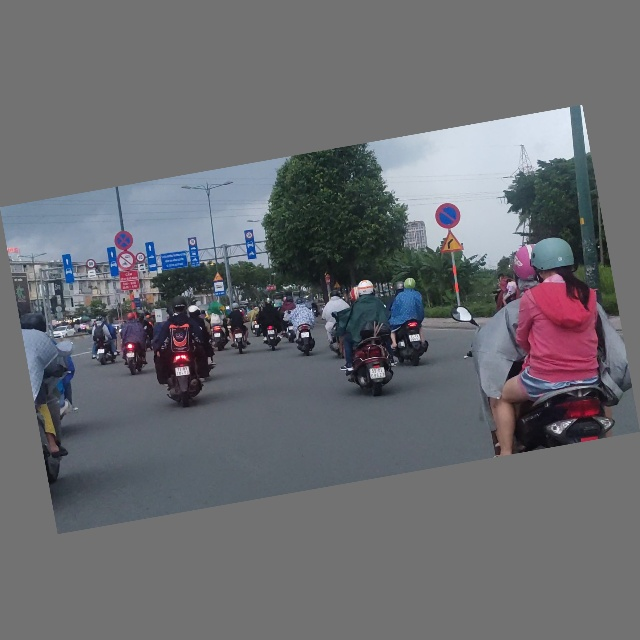I.434a: (213, 281, 227, 298)
P.111: (115, 250, 138, 272)
P.127*50: (187, 238, 197, 247), (244, 232, 253, 240)
P.127*60: (85, 258, 96, 270)
P.127*80: (135, 252, 146, 264)
P.130: (112, 229, 135, 253)
P.131a: (432, 200, 463, 232)
S.505a*Xe tai va cong: (137, 263, 146, 273)
W.201b: (437, 229, 464, 255), (210, 271, 224, 284)
